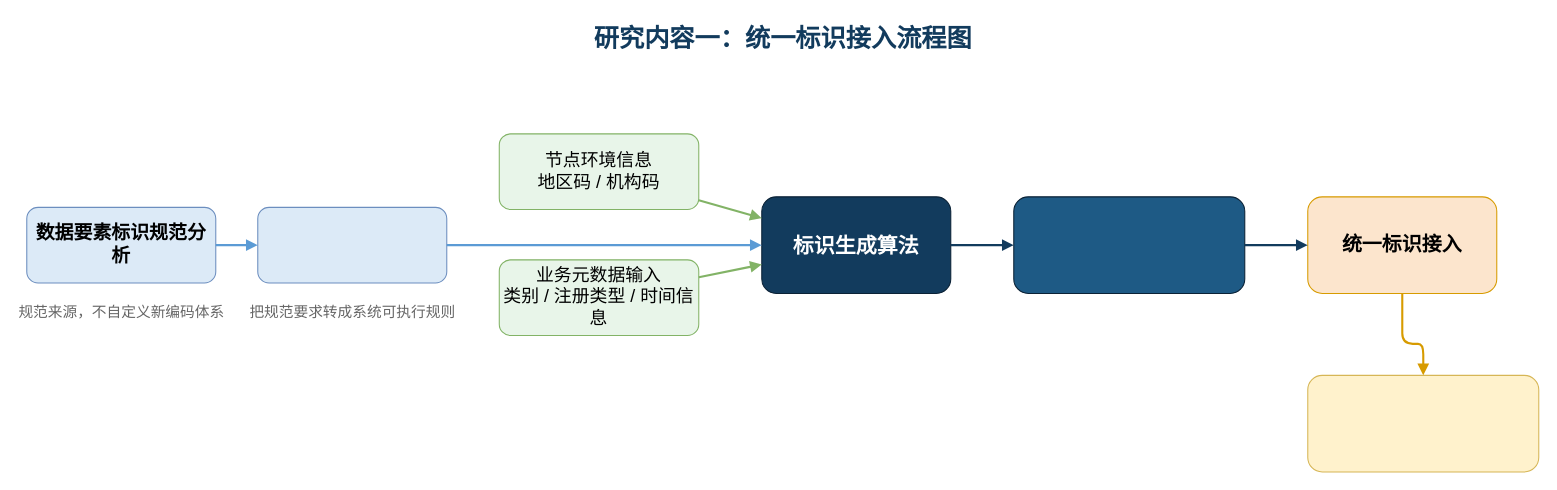
Some shapes in this 1557 by 490 pixel diagram are drawn without their labels. The box of each missing label's shape, as (x1, y1, x2, y2) in pixels:
字段拆解与规则映射: (257, 206, 447, 283)
支撑数字对象建模 资源绑定与跨节点解析: (1307, 374, 1539, 472)
标识校验算法 结构 / 字段 / 归属 / 唯一性: (1013, 196, 1245, 293)
